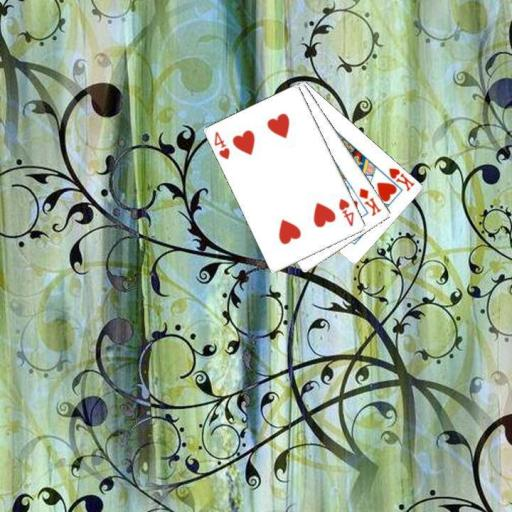card-corner: (385, 164, 416, 193), (356, 185, 383, 217), (211, 128, 232, 160), (336, 196, 356, 228)
